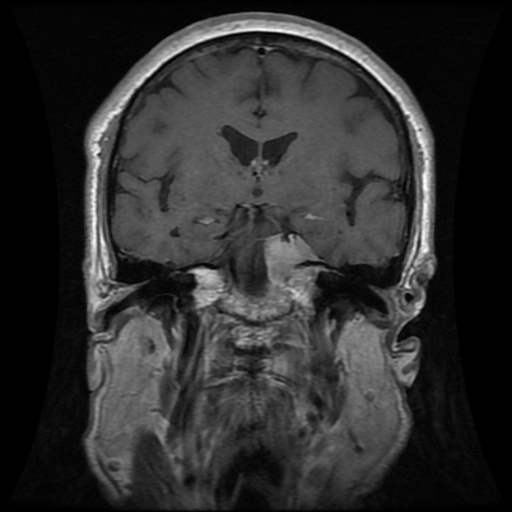meningioma: (263, 233, 319, 290)
